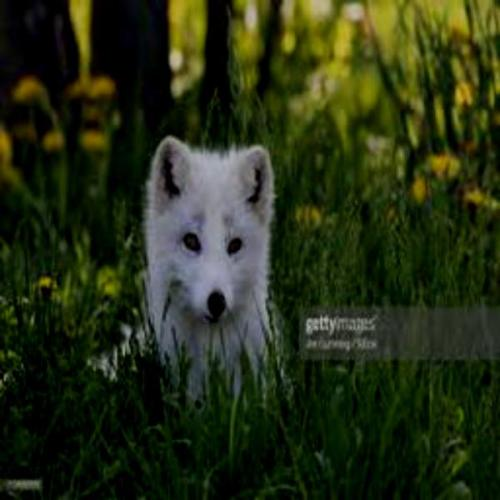arctic_fox-endangered: (142, 132, 278, 402)
